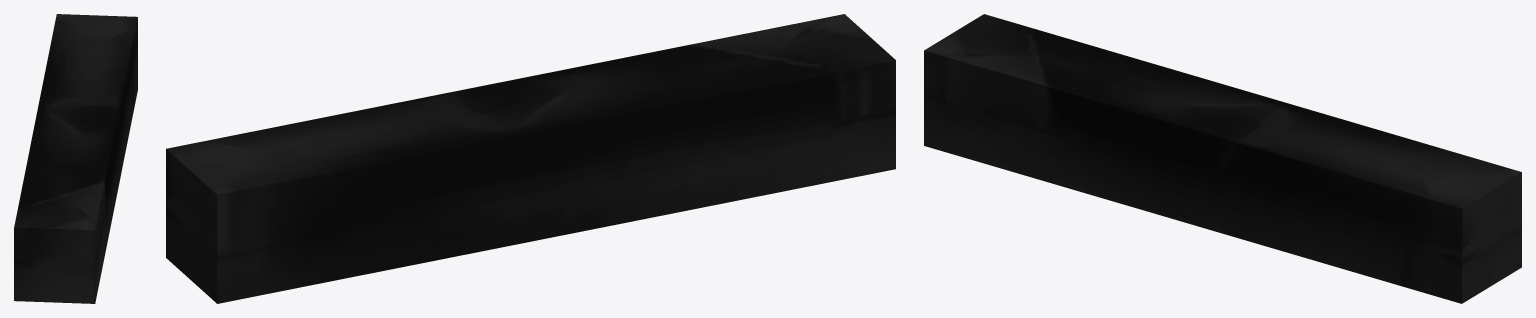
The model's file is support_arm__support_leg_0.glb.
3 renders of one model, left to right at view 1: azimuth 30°, elevation 25°; view 2: azimuth 150°, elevation 25°; view 3: azimuth 270°, elevation 25°, orthographic. The views are drawn at different scales.
Parts seen in each view (by area): view 1: world; view 2: world; view 3: world.
Part boxes in pixels (<box>): world: <box>14,14,137,303</box>; world: <box>166,14,895,303</box>; world: <box>924,14,1521,303</box>.
Size of the model in its own units: 0.1969 by 0.045 by 0.2557.
1 material, 1 textured.
